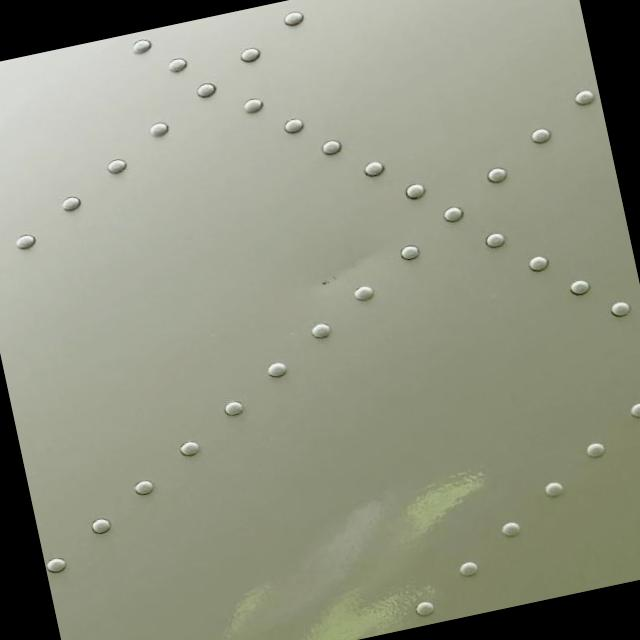dent: (302, 230, 408, 302)
